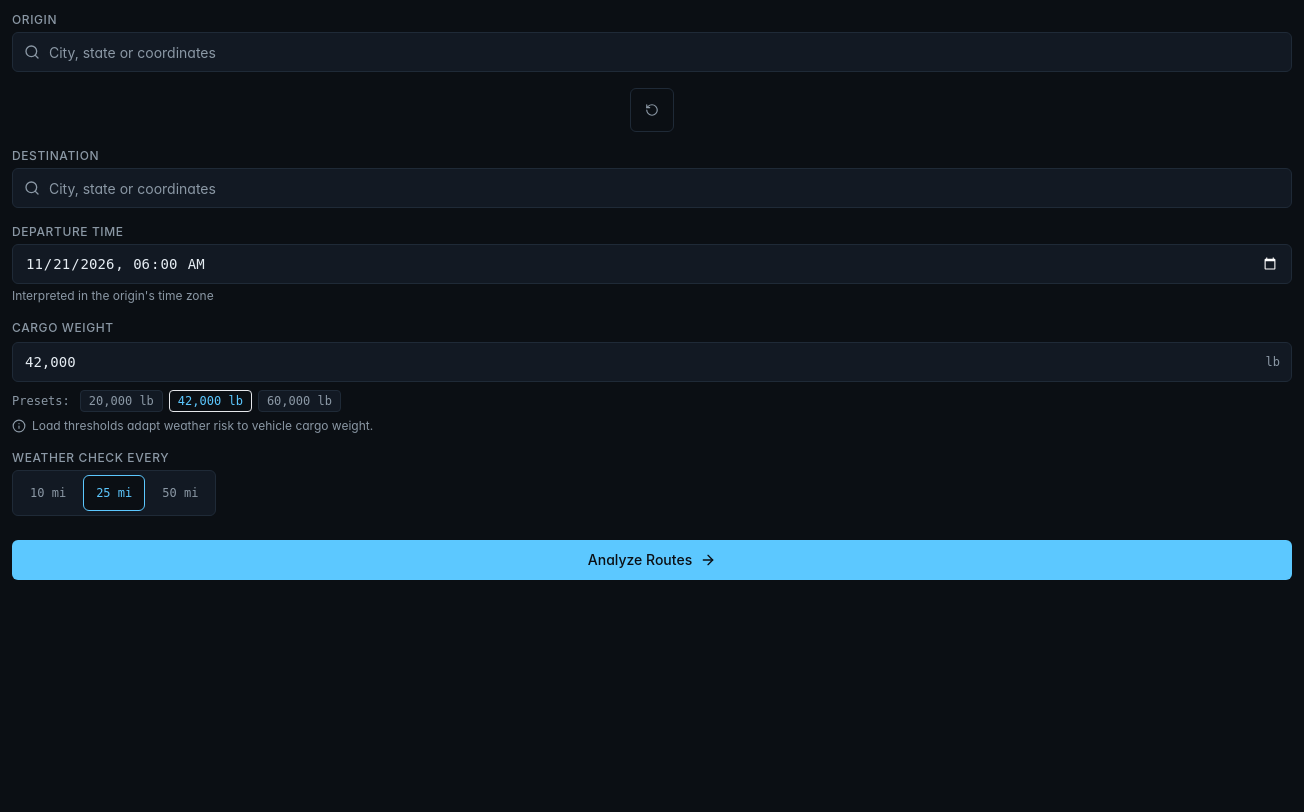
PlannerForm › displays validation error when attempting to submit incomplete form
Click the button "Analyze Routes".
click(652, 560)  # box [12,540,1292,580]
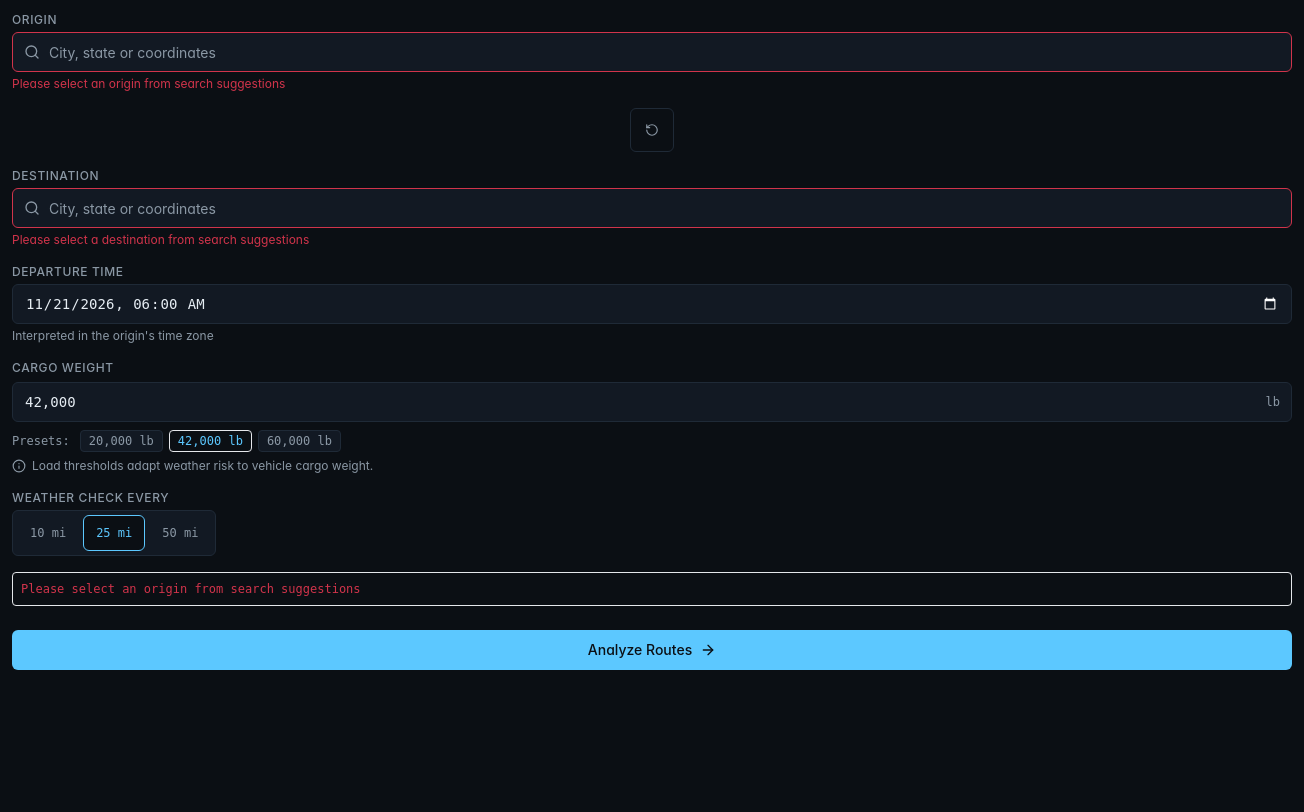
Now the text "Please select an origin from search suggestions" is shown, box [12,76,285,91]
